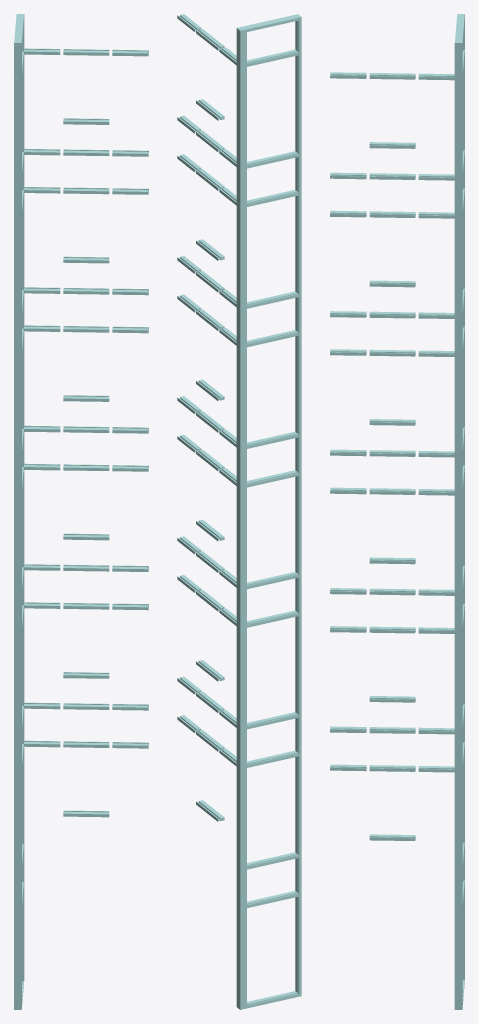
File: 20160125Autodesk_Hospital_Parking Garage_2015_Exist_Garage_-_Ground_Level_IfcMember_part1.dae
3 renders of one model, left to right at view 1: azimuth 90°, elevation 25°; view 2: azimuth 210°, elevation 25°; view 3: azimuth 270°, elevation 25°, orthographic.
Parts seen in each view (by area): view 1: 3OW$tKlfTEKO1v0QAmwJsL, 3OW$tKlfTEKO1v0QAmwJth, 3OW$tKlfTEKO1v0QAmwJEq, 3OW$tKlfTEKO1v0QAmwJsr, 3OW$tKlfTEKO1v0QAmwJmB, 3OW$tKlfTEKO1v0QAmwJn1, 3OW$tKlfTEKO1v0QAmwGzx; view 2: 3OW$tKlfTEKO1v0QAmwJev, 3OW$tKlfTEKO1v0QAmwJmF, 3OW$tKlfTEKO1v0QAmwJoV, 3OW$tKlfTEKO1v0QAmwJsf, 3OW$tKlfTEKO1v0QAmwJtl, 3OW$tKlfTEKO1v0QAmwJ88, 3OW$tKlfTEKO1v0QAmwJt9, 3OW$tKlfTEKO1v0QAmwJEq, 3OW$tKlfTEKO1v0QAmwJsL, 3OW$tKlfTEKO1v0QAmwJth, 3OW$tKlfTEKO1v0QAmwJn1, 3OW$tKlfTEKO1v0QAmwJsr (+24 smaller); view 3: 3OW$tKlfTEKO1v0QAmwJev, 3OW$tKlfTEKO1v0QAmwJsf, 3OW$tKlfTEKO1v0QAmwJt9, 3OW$tKlfTEKO1v0QAmwJtl, 3OW$tKlfTEKO1v0QAmwJmF, 3OW$tKlfTEKO1v0QAmwJoV, 3OW$tKlfTEKO1v0QAmwJ88, 3OW$tKlfTEKO1v0QAmwJFB, 3OW$tKlfTEKO1v0QAmwJtA, 3OW$tKlfTEKO1v0QAmwJm8, 3OW$tKlfTEKO1v0QAmwGu4, 3OW$tKlfTEKO1v0QAmwJsg (+2 smaller).
Boxes of the visible parts, x1,y1,x2,y2 form: 3OW$tKlfTEKO1v0QAmwJsL: (14, 78, 21, 179); 3OW$tKlfTEKO1v0QAmwJth: (14, 355, 21, 456); 3OW$tKlfTEKO1v0QAmwJEq: (14, 770, 21, 871); 3OW$tKlfTEKO1v0QAmwJsr: (14, 217, 21, 317); 3OW$tKlfTEKO1v0QAmwJmB: (14, 494, 21, 594); 3OW$tKlfTEKO1v0QAmwJn1: (14, 632, 21, 732); 3OW$tKlfTEKO1v0QAmwGzx: (14, 909, 21, 1009); 3OW$tKlfTEKO1v0QAmwJev: (236, 64, 246, 168); 3OW$tKlfTEKO1v0QAmwJmF: (236, 625, 246, 729); 3OW$tKlfTEKO1v0QAmwJoV: (236, 765, 246, 869); 3OW$tKlfTEKO1v0QAmwJsf: (236, 205, 246, 308); 3OW$tKlfTEKO1v0QAmwJtl: (236, 485, 246, 589); 3OW$tKlfTEKO1v0QAmwJ88: (236, 906, 246, 1009); 3OW$tKlfTEKO1v0QAmwJt9: (236, 345, 246, 448); 3OW$tKlfTEKO1v0QAmwJEq: (295, 754, 301, 856); 3OW$tKlfTEKO1v0QAmwJsL: (295, 53, 301, 155); 3OW$tKlfTEKO1v0QAmwJth: (295, 333, 301, 435); 3OW$tKlfTEKO1v0QAmwJn1: (295, 614, 301, 716); 3OW$tKlfTEKO1v0QAmwJsr: (295, 193, 301, 295); 3OW$tKlfTEKO1v0QAmwJev: (454, 78, 462, 179); 3OW$tKlfTEKO1v0QAmwJsf: (454, 217, 462, 317); 3OW$tKlfTEKO1v0QAmwJt9: (454, 355, 462, 456); 3OW$tKlfTEKO1v0QAmwJtl: (454, 494, 462, 594); 3OW$tKlfTEKO1v0QAmwJmF: (454, 632, 462, 732); 3OW$tKlfTEKO1v0QAmwJoV: (454, 771, 462, 871); 3OW$tKlfTEKO1v0QAmwJ88: (454, 909, 462, 1009); 3OW$tKlfTEKO1v0QAmwJFB: (454, 871, 462, 909); 3OW$tKlfTEKO1v0QAmwJtA: (454, 317, 462, 355); 3OW$tKlfTEKO1v0QAmwJm8: (454, 594, 462, 632); 3OW$tKlfTEKO1v0QAmwGu4: (454, 39, 462, 78); 3OW$tKlfTEKO1v0QAmwJsg: (454, 179, 462, 217).
Bounding box in the file's own units: 1.38 × 2.69 × 21.29.
